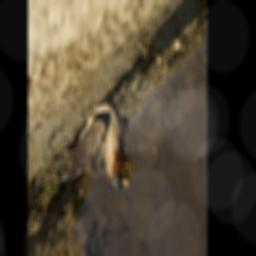Swallow: (65, 97, 134, 192)
